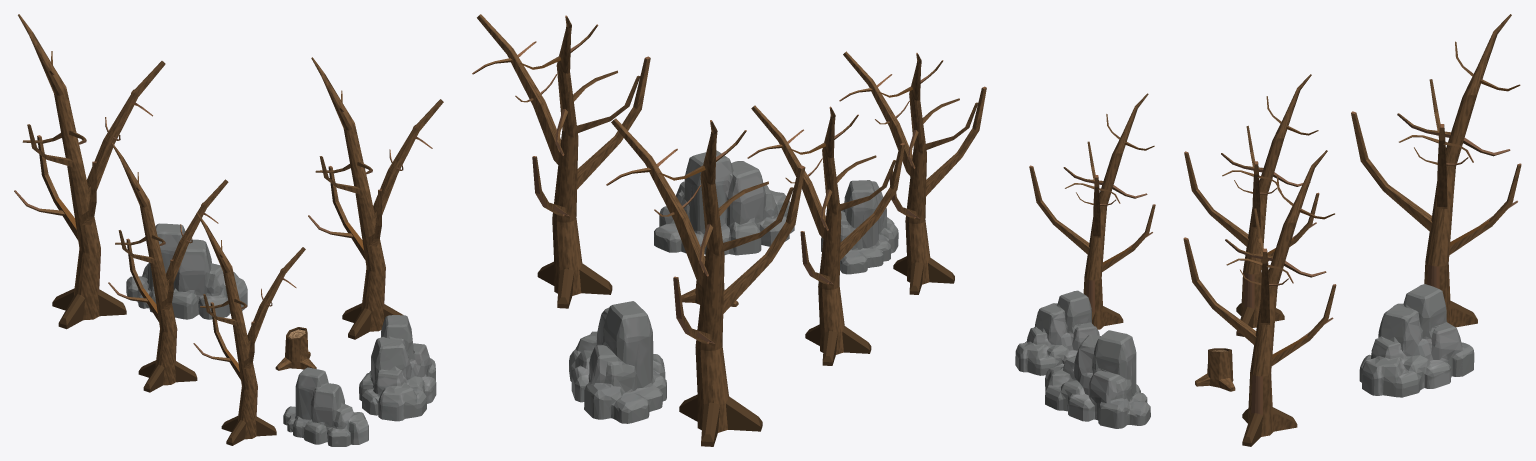
File: tree2.fbx
3 views of the same model, side by side, from view 1: azimuth 30°, elevation 25°; view 2: azimuth 150°, elevation 25°; view 3: azimuth 270°, elevation 25° (orthographic). The views are drawn at different scales.
Visible parts, largest first — view 1: _11_tree2, _11_tree3, _11_tree, Rock_1_2, _11_tree4, Rock_1_1, Rock_1_, _12_tree; view 2: _11_tree2, _11_tree3, _11_tree, Rock_1_1, _11_tree4, Rock_1_2, Rock_1_; view 3: _11_tree2, Rock_1_1, _11_tree3, Rock_1_2, _11_tree, _11_tree4, Rock_1_, _12_tree.
Part boxes in pixels (box(x1,y1,x2,y2)): _11_tree2: box(14, 14, 165, 329); _11_tree3: box(308, 57, 443, 339); _11_tree: box(108, 142, 228, 392); Rock_1_2: box(359, 315, 436, 421); _11_tree4: box(193, 212, 305, 445); Rock_1_1: box(126, 223, 247, 319); Rock_1_: box(283, 367, 368, 446); _12_tree: box(275, 327, 316, 370); _11_tree2: box(606, 118, 805, 446); _11_tree3: box(472, 14, 650, 308); _11_tree: box(747, 105, 905, 365); Rock_1_1: box(569, 301, 666, 423); _11_tree4: box(839, 51, 986, 294); Rock_1_2: box(654, 150, 794, 255); Rock_1_: box(821, 180, 898, 274); _11_tree2: box(1351, 14, 1521, 327); Rock_1_1: box(1359, 284, 1474, 397); _11_tree3: box(1183, 150, 1336, 446); Rock_1_2: box(1045, 330, 1150, 428); _11_tree: box(1184, 74, 1319, 336); _11_tree4: box(1029, 93, 1155, 329); Rock_1_: box(1015, 290, 1099, 375); _12_tree: box(1195, 348, 1235, 391).
Size of the model in its own units: 712 by 573 by 883.
Materials: 3 (3 with a texture image).
